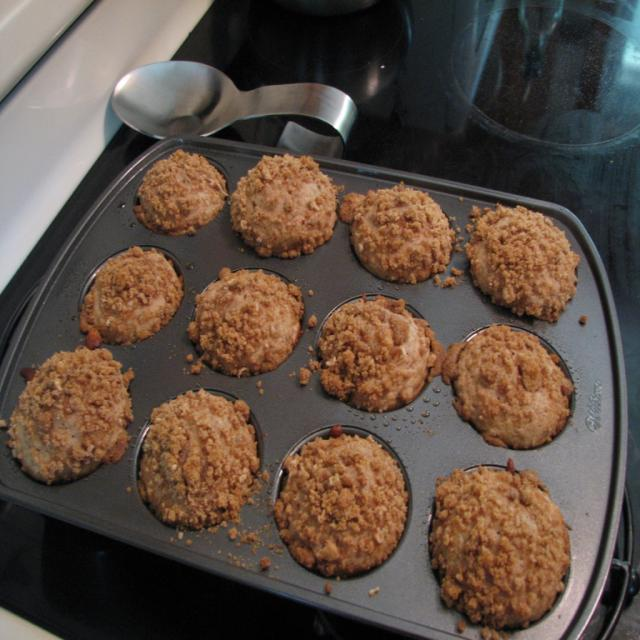Cookie: (0, 143, 582, 639)
